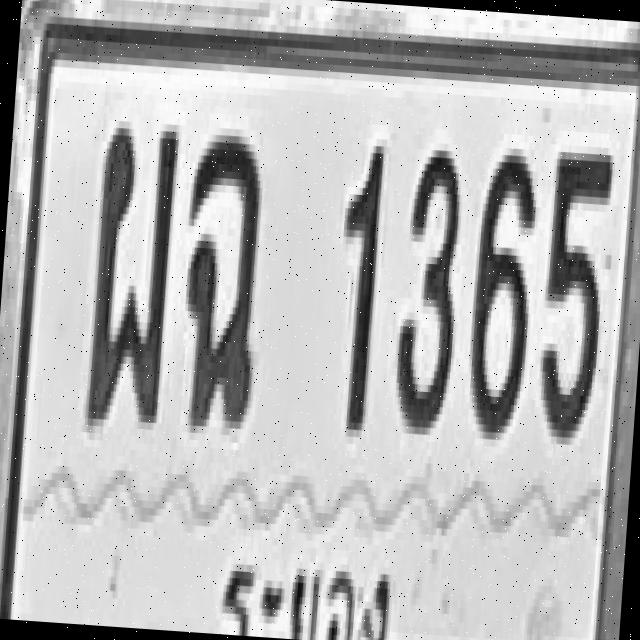1: (328, 137, 386, 437)
18ChorChing: (174, 126, 268, 429)
3: (390, 141, 466, 436)
37PhorPhueng: (82, 120, 180, 430)
5: (534, 140, 614, 442)
6: (464, 146, 540, 441)
Rayong: (217, 544, 404, 640)
